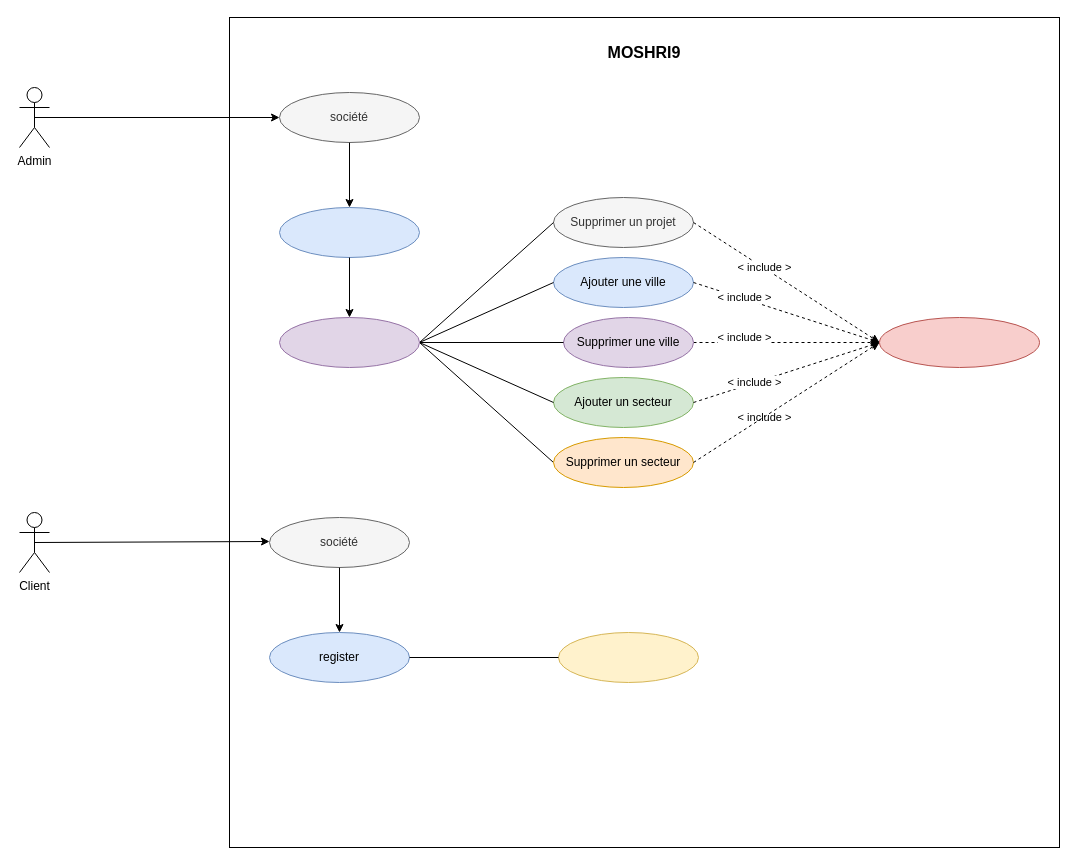
Some shapes in this 1077 by 865 pixel diagram are drawn without their labels. Each missing label, with the box of its shape:
Authentification: (878, 316, 1040, 368)
connexion: (278, 206, 420, 258)
dashboard: (278, 316, 420, 368)
Demander un projet: (558, 632, 698, 682)
